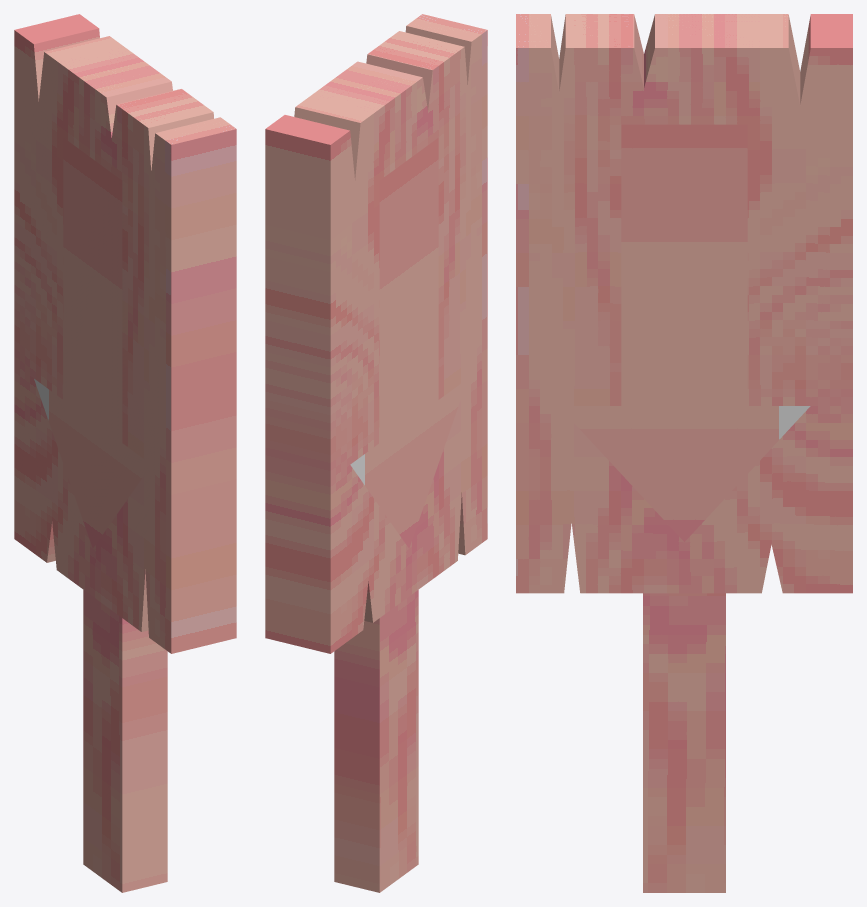
The model's file is arrowboarddown_bake.dae.
3 renders of one model, left to right at view 1: azimuth 30°, elevation 25°; view 2: azimuth 150°, elevation 25°; view 3: azimuth 270°, elevation 25°, orthographic. The views are drawn at different scales.
Visible parts, largest first — view 1: m0; view 2: m0; view 3: m0.
Part boxes in pixels (x1,y1,x2,y2): m0: (14,14,236,892); m0: (265,14,487,892); m0: (516,14,852,892).
Size of the model in its own units: 41.59 by 483 by 173.
2 materials, 2 textured.
